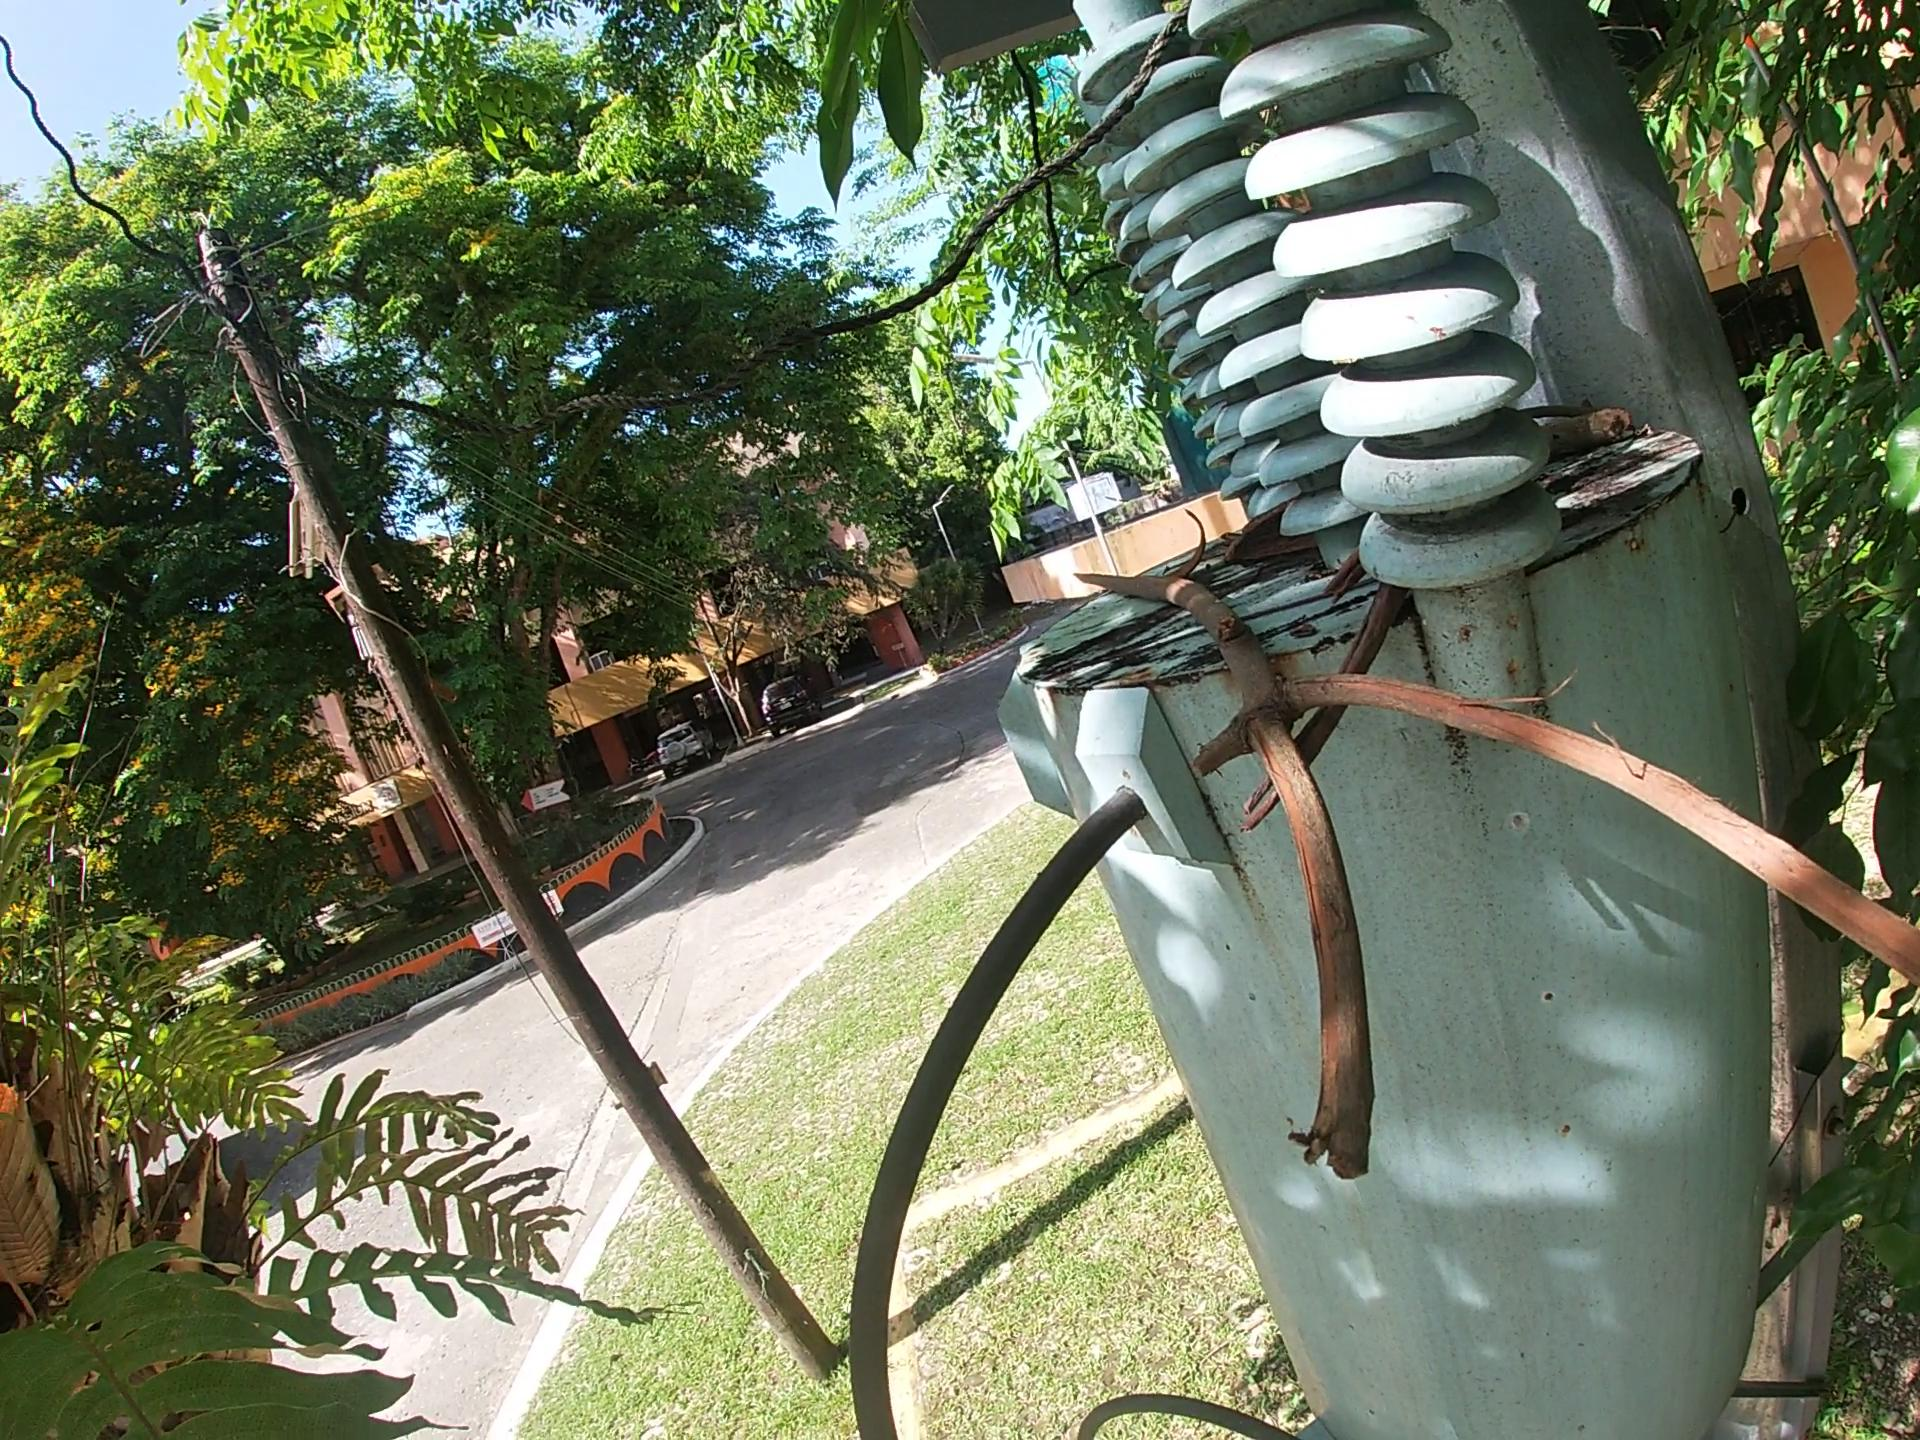mahogany fruit: (1217, 495, 1318, 572), (1169, 505, 1212, 579)
tree branch: (1070, 566, 1920, 1196), (1232, 535, 1420, 838), (1533, 399, 1639, 467)
